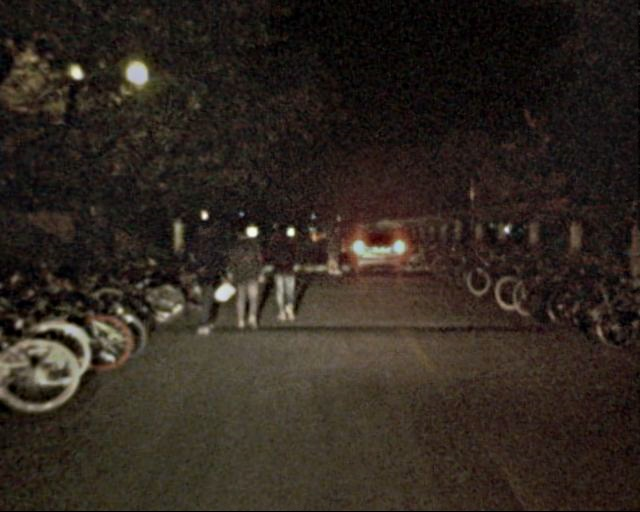person: (188, 210, 223, 329), (267, 215, 302, 326), (233, 227, 265, 331), (322, 227, 345, 274)
